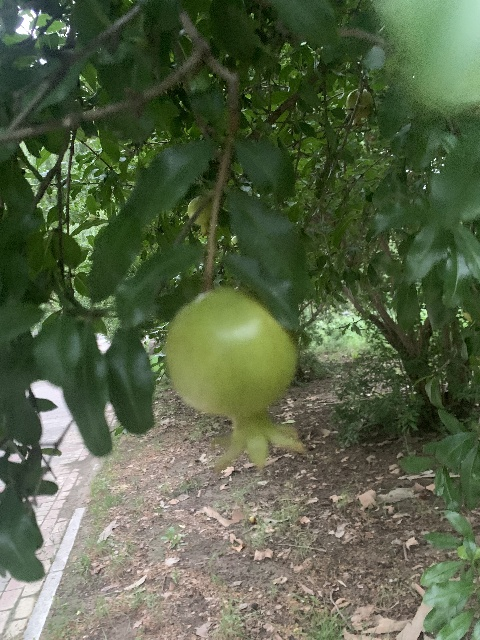mid-growth: (163, 288, 308, 474), (345, 88, 374, 129)
